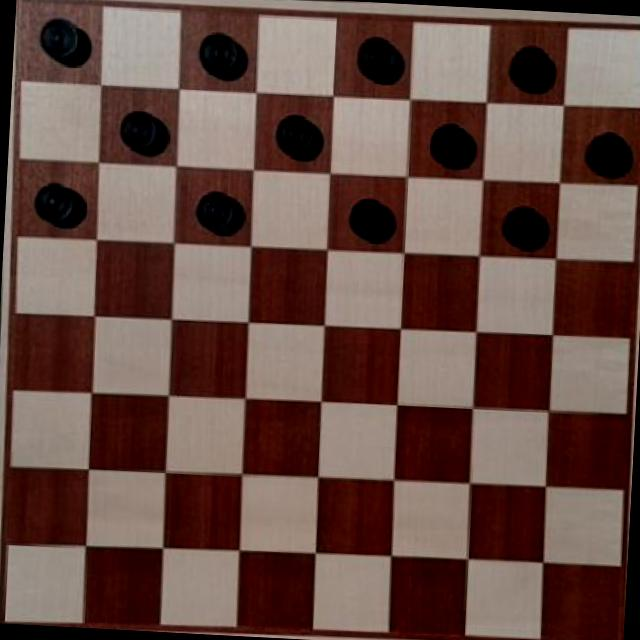BOARD: (0, 0, 640, 640)
black: (348, 23, 409, 94), (260, 104, 330, 165), (33, 11, 95, 76), (501, 39, 566, 100), (342, 184, 399, 251), (422, 105, 477, 173), (183, 183, 250, 237), (492, 201, 558, 253), (26, 170, 84, 226), (196, 22, 246, 86), (577, 127, 635, 180), (113, 104, 166, 161)
